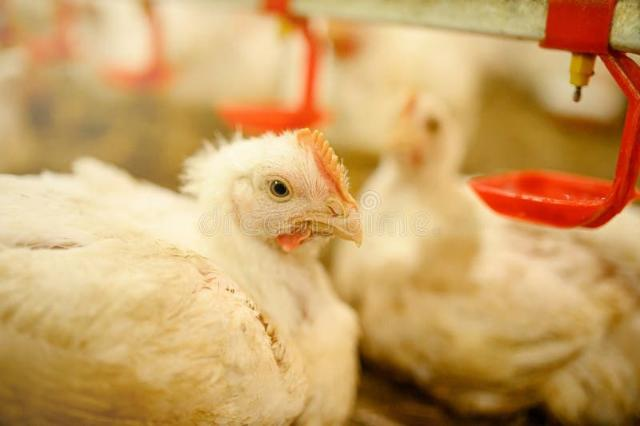Chicken: (0, 128, 363, 426)
